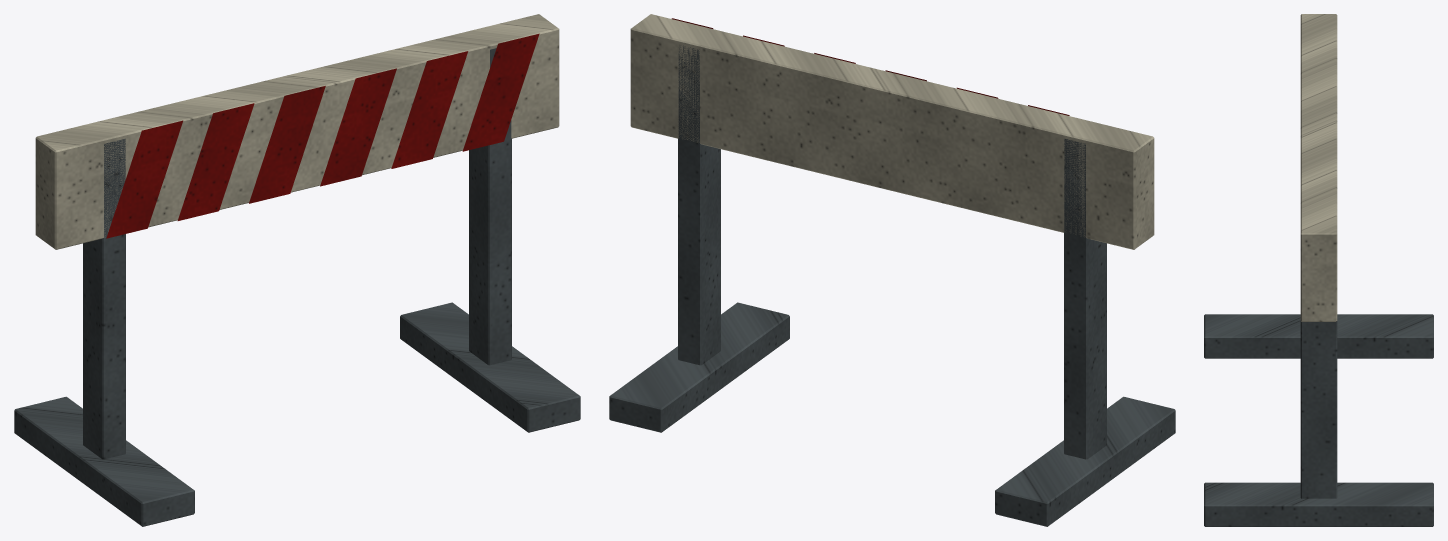
Rendered from PROP-FB235CC5B080_lod1.glb.
3 renders of one model, left to right at view 1: azimuth 30°, elevation 25°; view 2: azimuth 150°, elevation 25°; view 3: azimuth 270°, elevation 25°, orthographic. The views are drawn at different scales.
Visible parts, largest first — view 1: barrier_board.002, painted_diagonal_stripe.002, barrier_leg.002, barrier_foot.002; view 2: barrier_board.002, barrier_leg.002, barrier_foot.002; view 3: barrier_foot.002, barrier_board.002, barrier_leg.002.
Boxes of the visible parts, bbox=[...] form: barrier_board.002: bbox=[35, 14, 559, 249]; painted_diagonal_stripe.002: bbox=[106, 33, 539, 238]; barrier_leg.002: bbox=[83, 48, 511, 459]; barrier_foot.002: bbox=[14, 302, 580, 526]; barrier_board.002: bbox=[630, 14, 1154, 249]; barrier_leg.002: bbox=[678, 45, 1106, 459]; barrier_foot.002: bbox=[609, 302, 1175, 526]; barrier_foot.002: bbox=[1204, 314, 1433, 526]; barrier_board.002: bbox=[1300, 14, 1337, 321]; barrier_leg.002: bbox=[1300, 321, 1337, 498].
Size of the model in its own units: 1.7 by 1.11 by 0.75.
3 materials, 3 textured.
